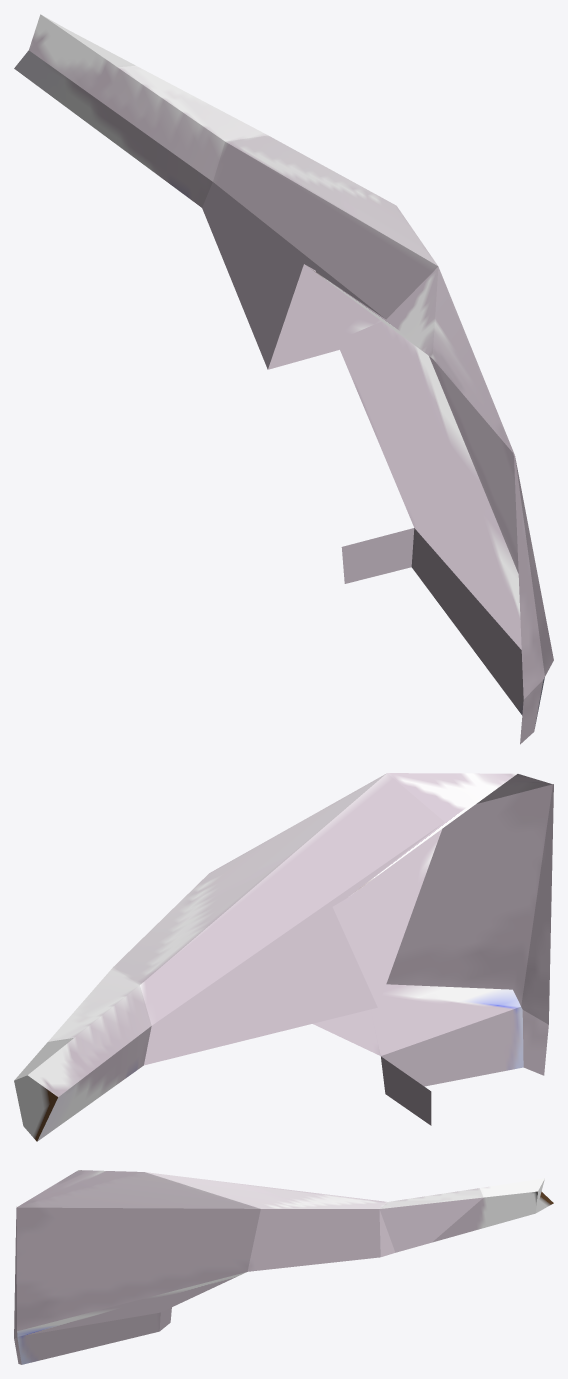
Rendered from 1player_arm.obj.
3 views of the same model, one above another, from view 1: azimuth 30°, elevation 25°; view 2: azimuth 150°, elevation 25°; view 3: azimuth 270°, elevation 25° (orthographic). The views are drawn at different scales.
Visible parts, largest first — view 1: Cube.001; view 2: Cube.001; view 3: Cube.001.
Part boxes in pixels (box(x1,y1,x2,y2)): Cube.001: box(14, 14, 553, 744); Cube.001: box(14, 773, 553, 1141); Cube.001: box(14, 1170, 553, 1364).
Bounding box in the file's own units: 0.2558 × 0.594 × 1.44.
